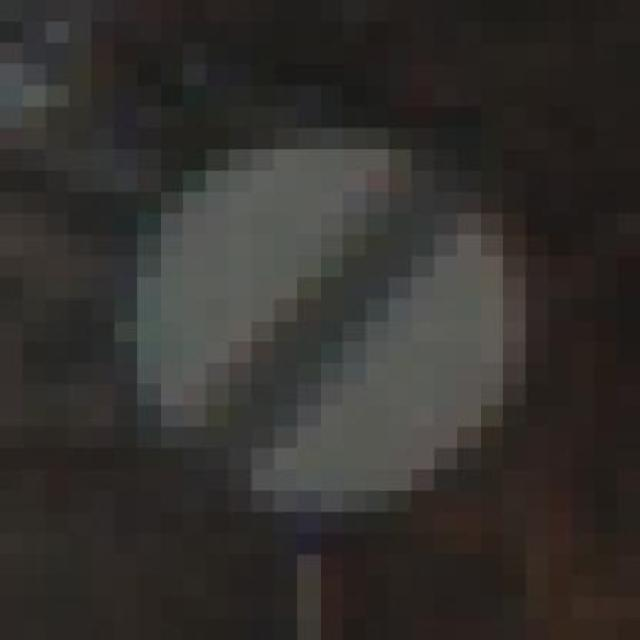End of all speed and passing limits: (91, 128, 526, 512)
